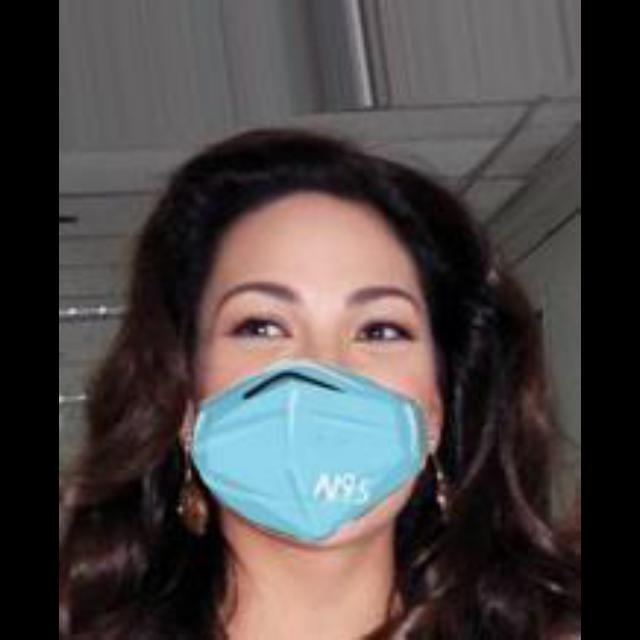suspicion: (134, 138, 456, 522)
